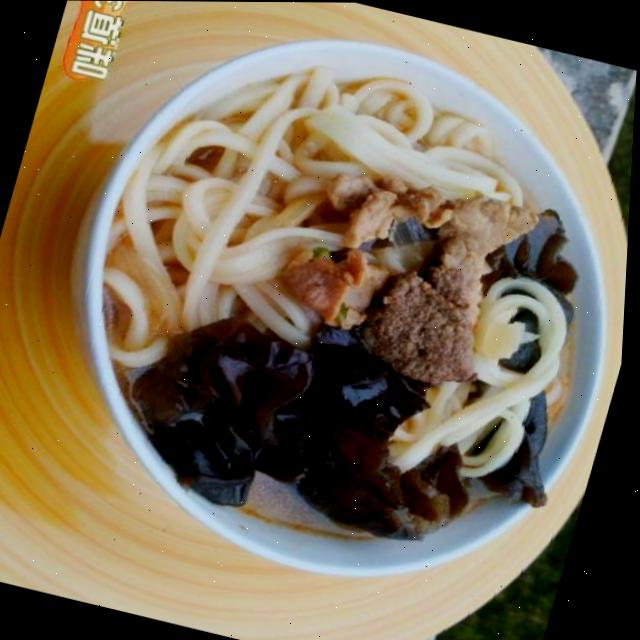面条主食: (3, 0, 640, 622)
